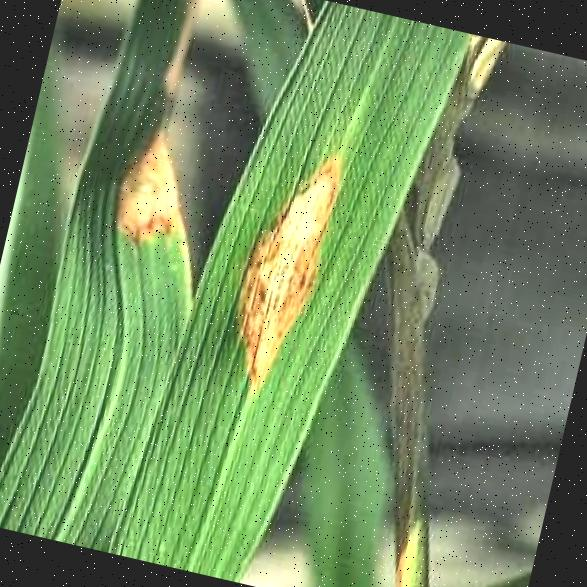Leaf_smut: (200, 134, 362, 395), (96, 70, 214, 254)
